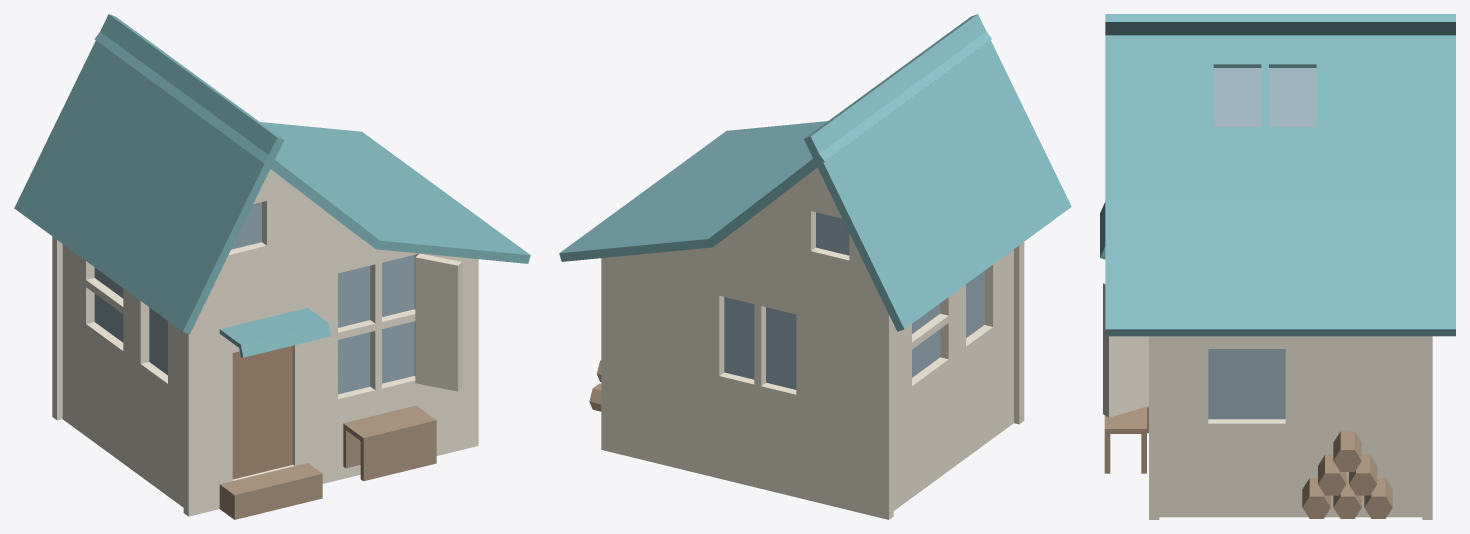
Rendered from folded_saltbox.glb.
3 renders of one model, left to right at view 1: azimuth 30°, elevation 25°; view 2: azimuth 150°, elevation 25°; view 3: azimuth 270°, elevation 25°, orthographic. The views are drawn at different scales.
Parts seen in each view (by area): view 1: folded_saltbox; view 2: folded_saltbox; view 3: folded_saltbox.
Boxes of the visible parts, x1,y1,x2,y2 form: folded_saltbox: [14, 14, 530, 519]; folded_saltbox: [559, 14, 1071, 519]; folded_saltbox: [1100, 14, 1455, 519].
Size of the model in its own units: 1.62 by 1.68 by 1.38.
